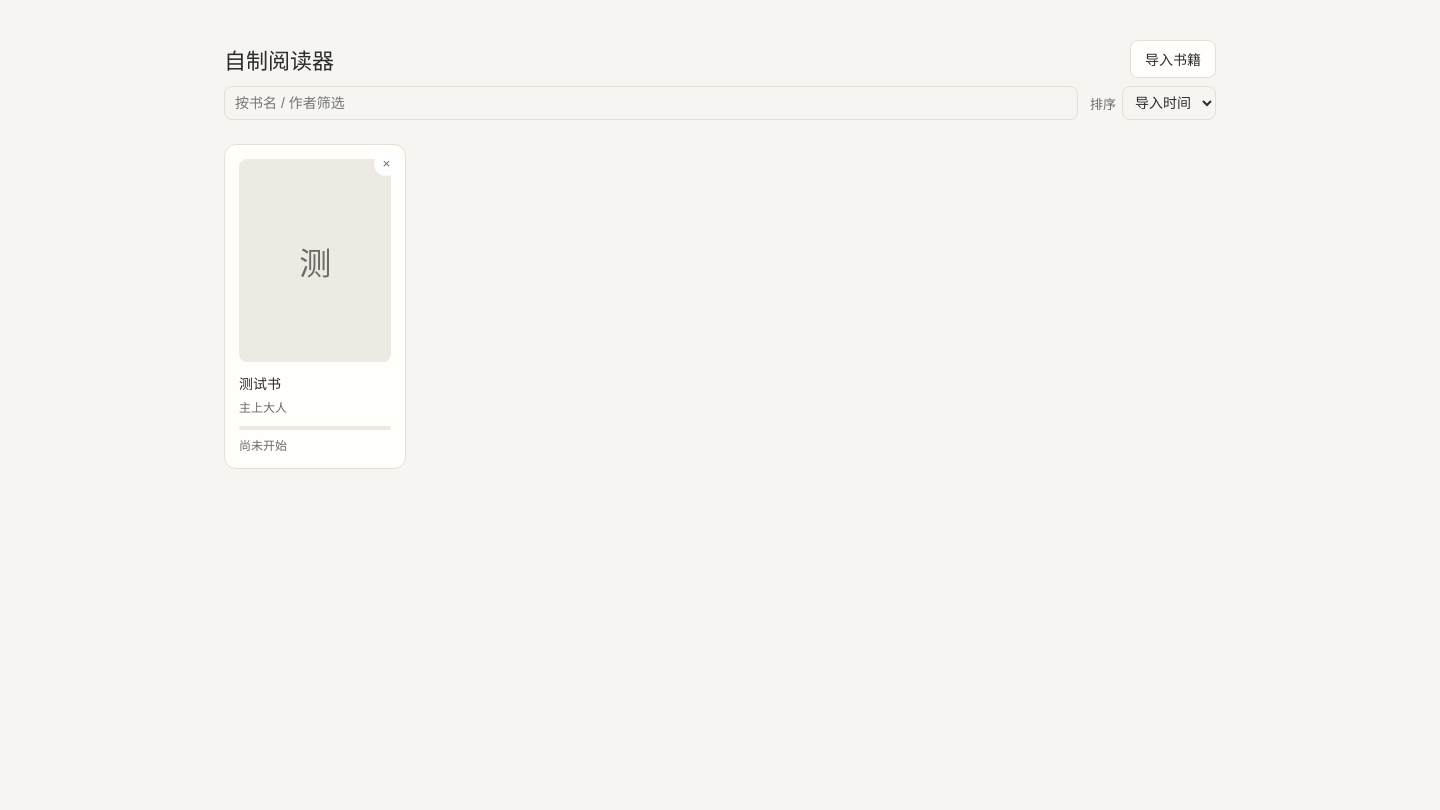
Test: 书库：移除书籍有确认、且可撤销 › 点「取消」或按 Esc 都只是关掉弹窗，书还在
The width and height of the screenshot is (1440, 810).
Click the button named "移除《测试书》": (386, 164) x1=374 y1=152 x2=398 y2=176
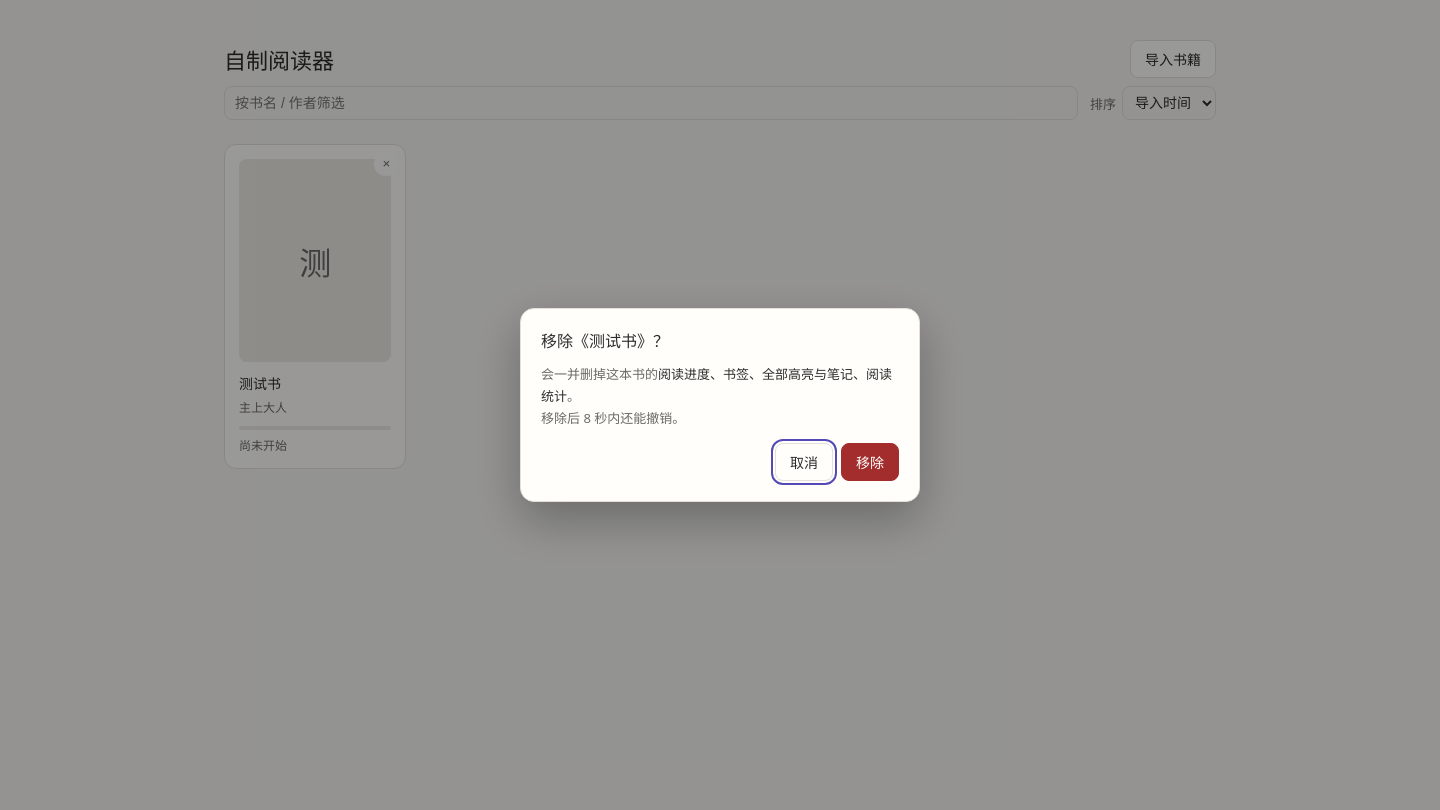
Click the button "取消": (804, 462) x1=775 y1=443 x2=833 y2=481
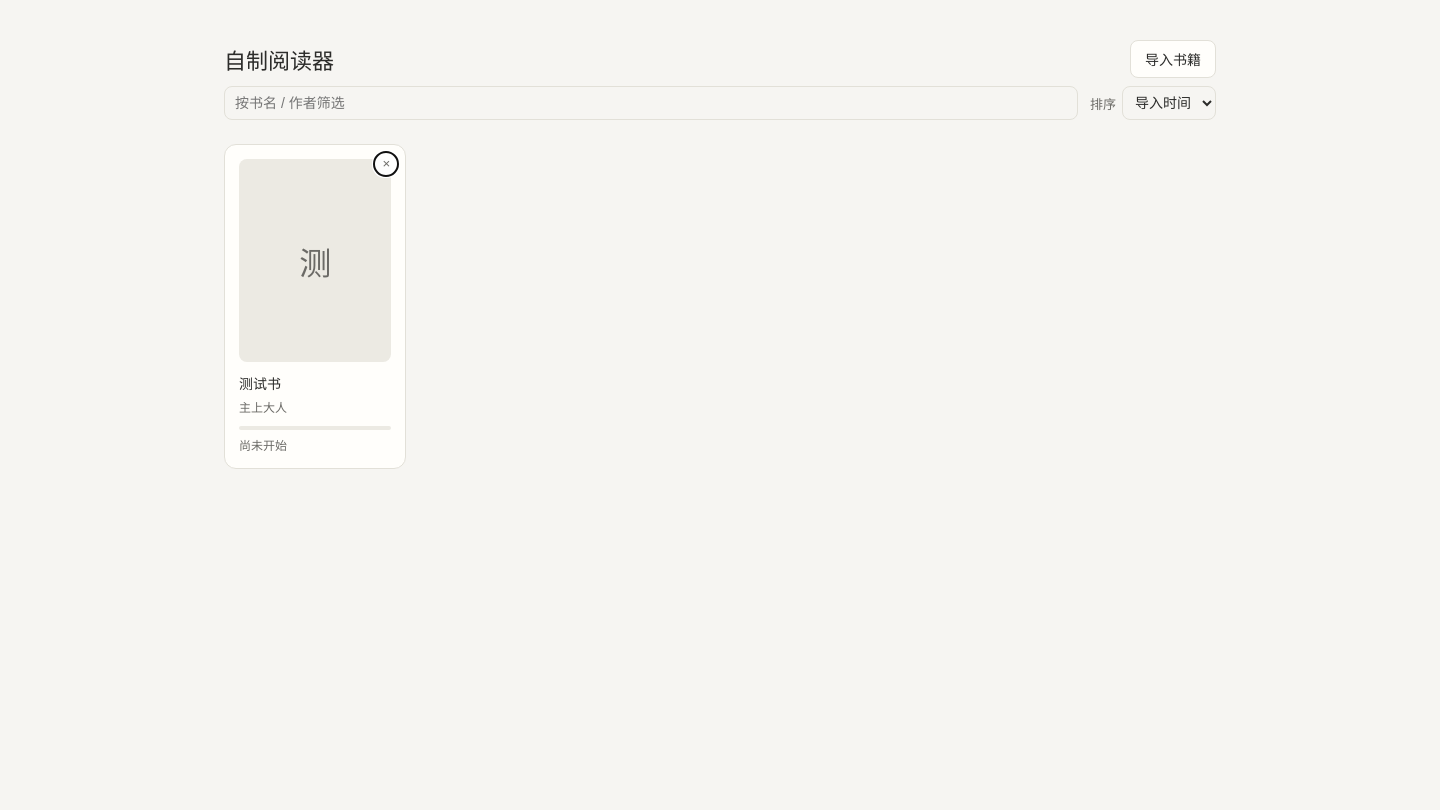
Check: the text "测试书" is shown, box x1=239 y1=374 x2=281 y2=393
Check: the dialog is gone
Click the button named "移除《测试书》": (386, 164) x1=374 y1=152 x2=398 y2=176
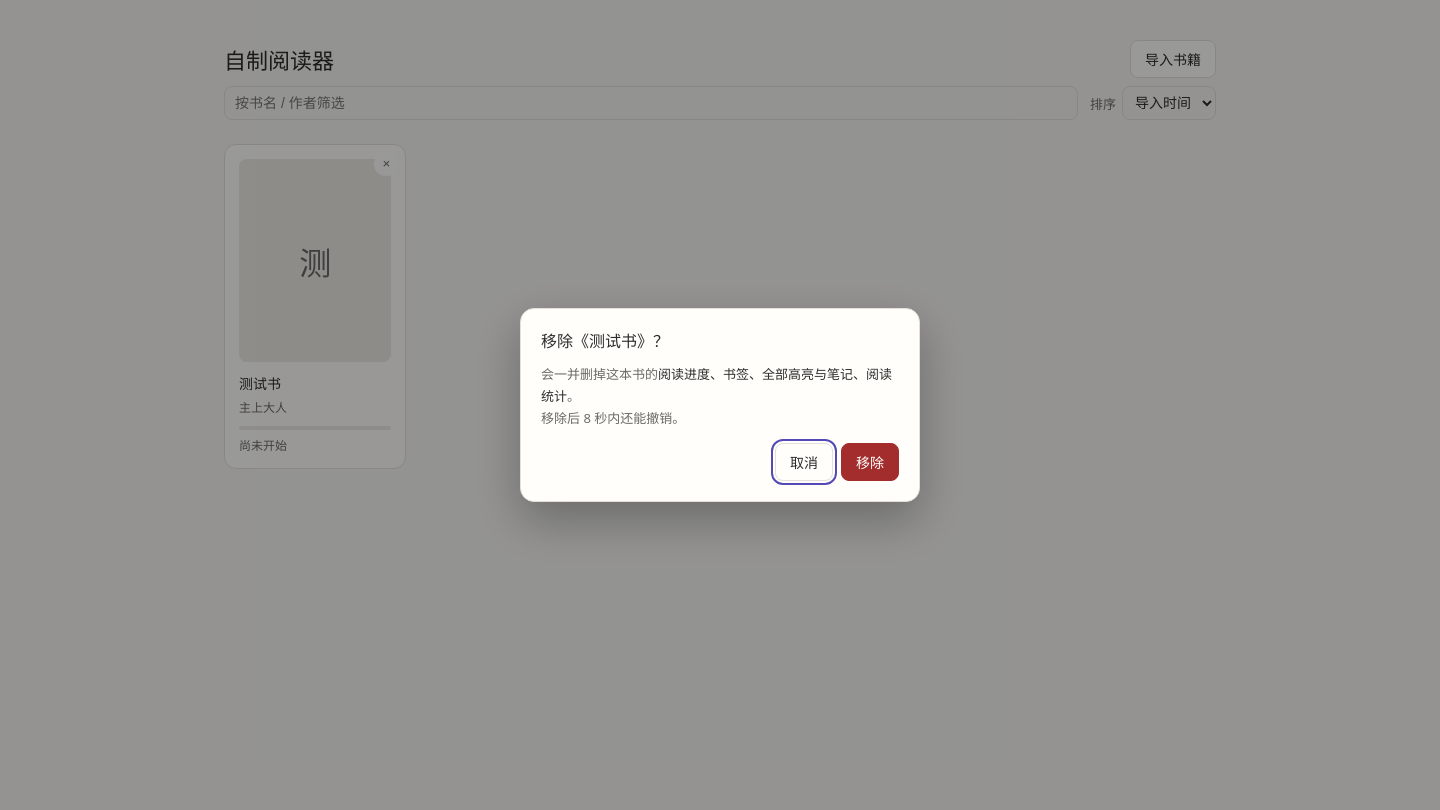
Press Escape
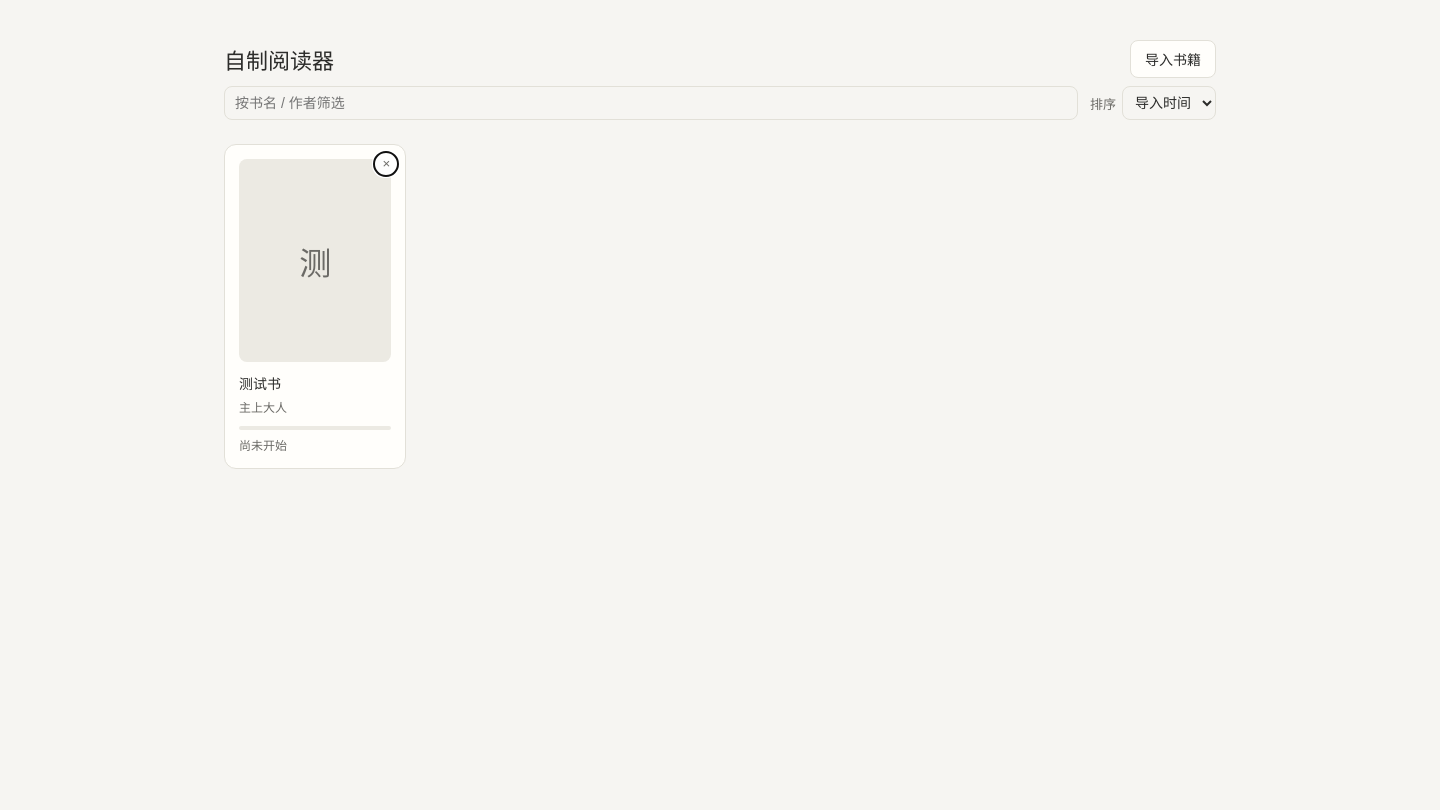
Check: the text "测试书" is shown, box x1=239 y1=374 x2=281 y2=393
Check: the dialog is gone
